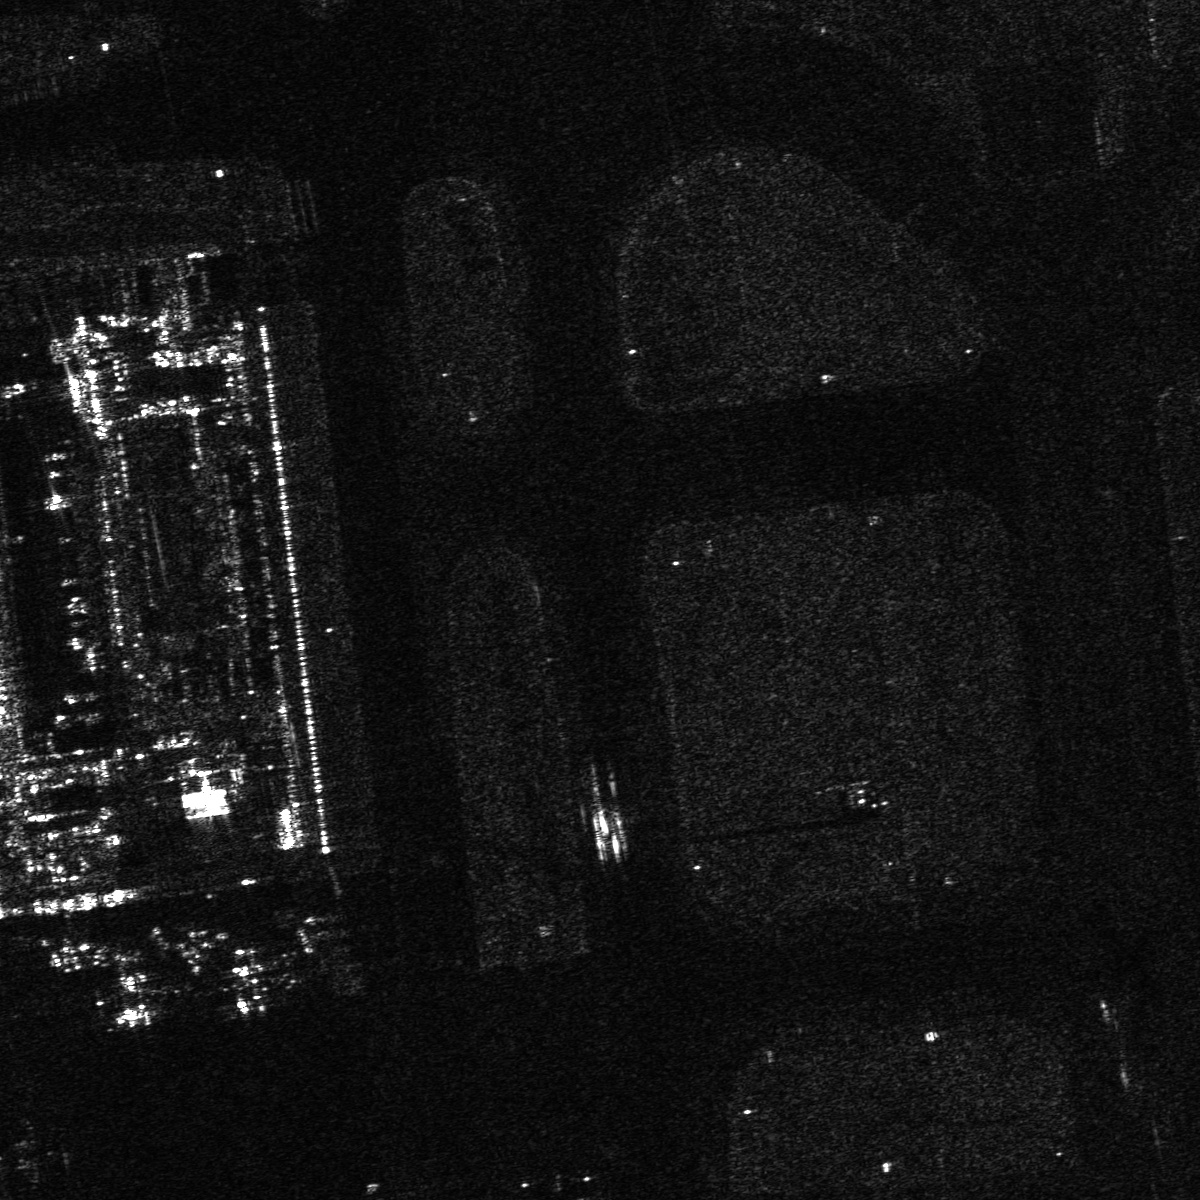Boeing737: (89, 965, 176, 1023)
Boeing787: (205, 938, 296, 1016)
